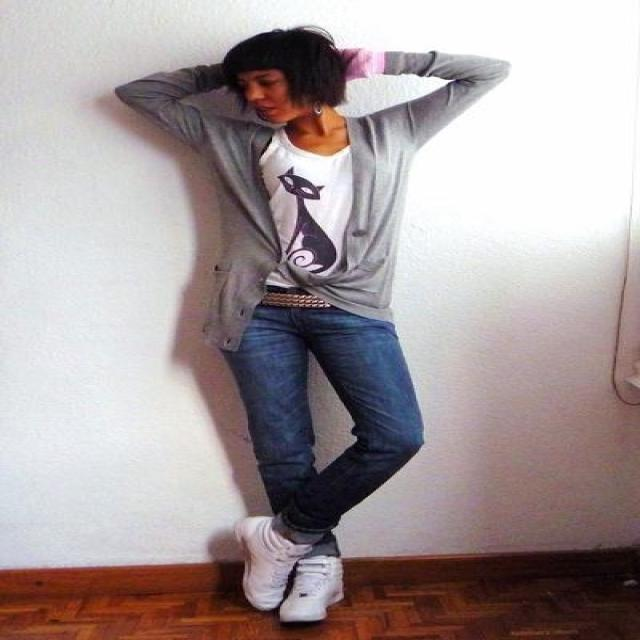jacket: (115, 51, 507, 358)
pants: (220, 302, 422, 560)
shirt: (259, 131, 362, 306)
shoe: (222, 506, 352, 620)
